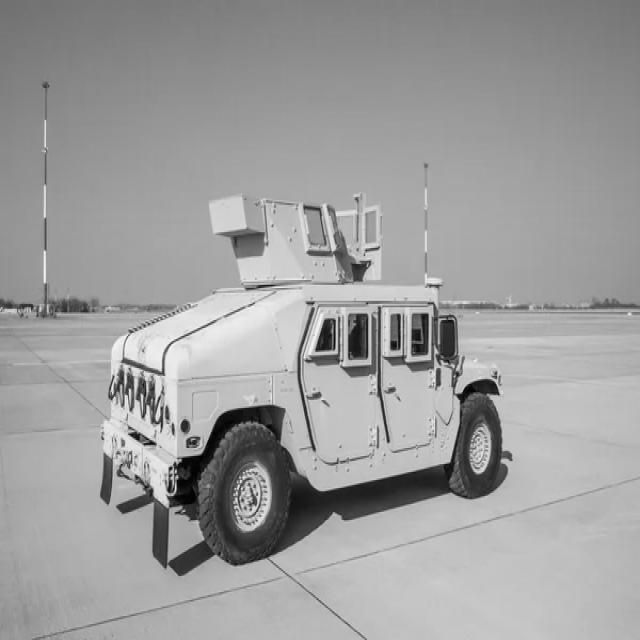Car: (100, 192, 503, 567)
